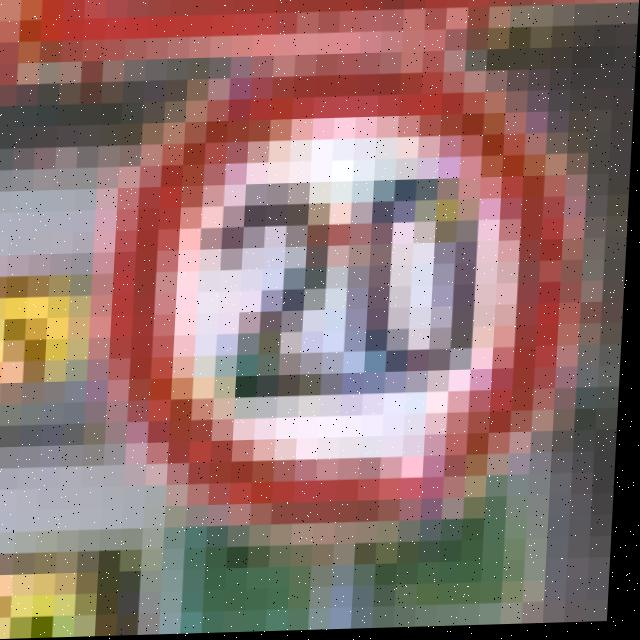speed_limit_20: (106, 58, 635, 551)
